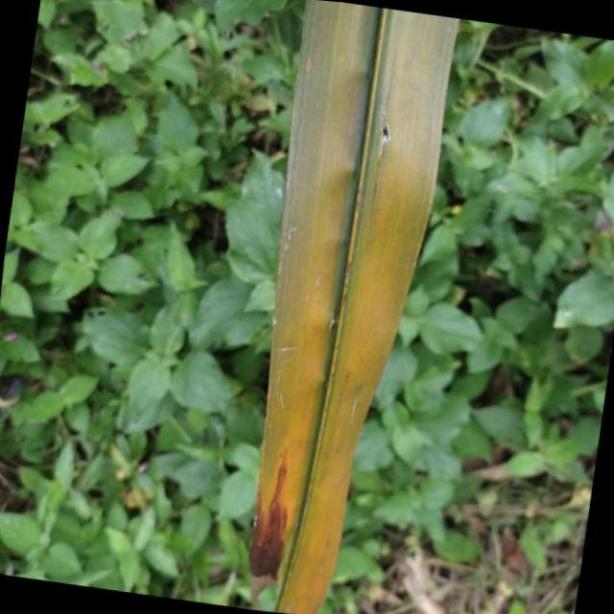Megnesium: (248, 0, 459, 614)
